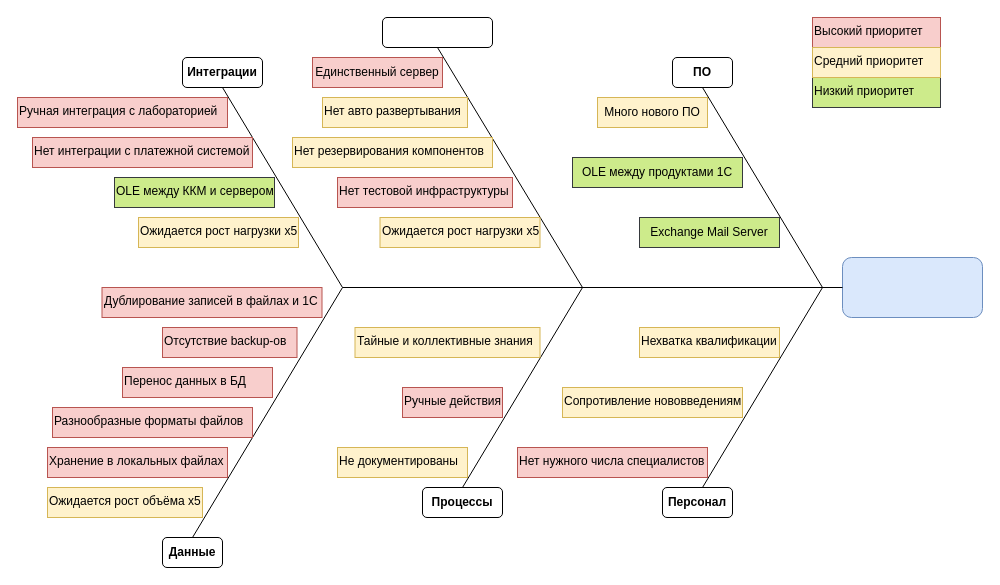
This 1000x585 diagram has some shape labels left out. The centre of each missing label's shape, as x and y in pixels:
Инфраструктура: the point at 437,32
Потеря работоспособности системы при миграции: the point at 912,287
